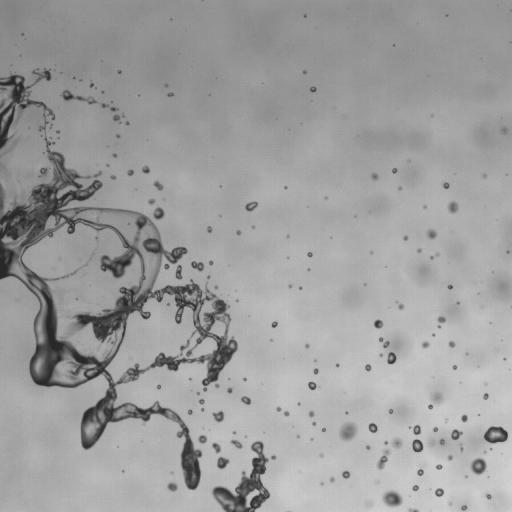droplet: (0, 69, 54, 157), (212, 441, 269, 511), (483, 426, 507, 443), (339, 422, 357, 441), (382, 490, 402, 507), (470, 457, 486, 474), (428, 392, 443, 409), (217, 456, 229, 469), (153, 206, 164, 220), (412, 439, 423, 452), (191, 261, 204, 271), (212, 411, 223, 422), (245, 201, 257, 211), (448, 201, 458, 213), (451, 429, 462, 439), (391, 438, 402, 448), (387, 352, 396, 364), (379, 337, 389, 347), (368, 422, 377, 433), (231, 439, 242, 448), (437, 316, 445, 328), (153, 181, 163, 190), (427, 229, 436, 239), (167, 482, 177, 491), (212, 442, 220, 453), (373, 319, 382, 328), (241, 396, 251, 404), (308, 381, 317, 389), (412, 425, 420, 434), (198, 435, 207, 443), (435, 488, 443, 497), (113, 115, 123, 122), (342, 470, 350, 478), (421, 341, 429, 348), (142, 166, 149, 173), (371, 173, 378, 180), (365, 500, 372, 507), (461, 414, 467, 422), (148, 198, 155, 204), (448, 341, 455, 347), (365, 364, 371, 371), (417, 468, 423, 475), (310, 86, 316, 92), (501, 127, 507, 133), (127, 169, 133, 175), (443, 182, 449, 188), (271, 321, 277, 327), (412, 485, 418, 491), (485, 493, 491, 499), (429, 439, 434, 446), (207, 226, 212, 232), (313, 368, 318, 374), (227, 387, 232, 393), (483, 393, 488, 399), (309, 411, 314, 417), (436, 464, 442, 469), (461, 505, 467, 510), (392, 168, 397, 173), (199, 399, 204, 404), (284, 411, 289, 416), (439, 439, 444, 444), (447, 455, 452, 460), (168, 92, 173, 96), (307, 252, 312, 256), (452, 365, 457, 369), (271, 455, 276, 459), (330, 477, 334, 482), (125, 121, 129, 125), (111, 175, 115, 179), (482, 174, 486, 178), (236, 230, 240, 234), (403, 236, 407, 240), (417, 248, 421, 252), (84, 262, 88, 266), (448, 285, 452, 289), (305, 344, 309, 348), (276, 407, 280, 411), (188, 410, 192, 414), (433, 427, 437, 431), (366, 445, 370, 449), (90, 83, 93, 87), (113, 153, 116, 157), (398, 186, 401, 190), (95, 236, 98, 240), (209, 261, 213, 264), (157, 385, 160, 389), (389, 409, 392, 413), (303, 70, 306, 73), (116, 134, 119, 137), (436, 253, 439, 256), (379, 353, 382, 356), (312, 422, 315, 425), (322, 428, 325, 431), (384, 441, 387, 444), (448, 502, 451, 505), (118, 70, 120, 73), (57, 130, 59, 133), (252, 225, 254, 228), (207, 276, 210, 278), (288, 285, 291, 287), (214, 286, 217, 288), (166, 303, 169, 305), (336, 364, 339, 366), (243, 378, 246, 380), (445, 418, 447, 421), (233, 431, 235, 434), (320, 454, 323, 456), (50, 125, 52, 127), (123, 225, 125, 227), (82, 274, 84, 276), (299, 287, 301, 289), (311, 438, 313, 440)
ligament: (0, 137, 237, 490), (61, 90, 97, 104), (376, 448, 390, 469), (101, 103, 117, 111), (396, 301, 403, 309), (0, 161, 4, 171), (89, 253, 94, 260), (408, 508, 419, 511), (459, 444, 463, 451)
